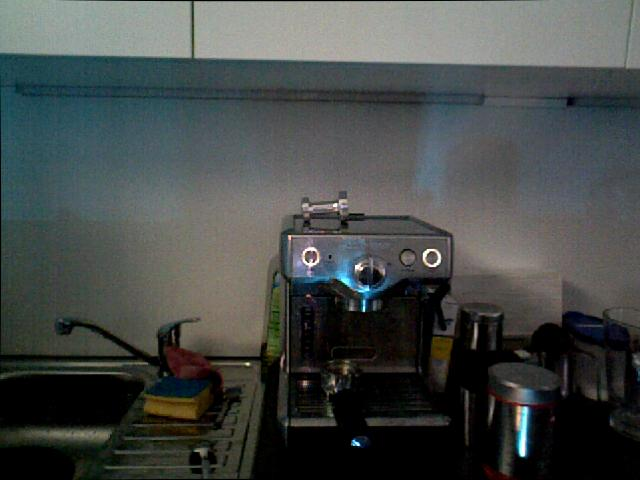bench: (257, 250, 287, 370)
couch: (0, 366, 149, 480)
handbag: (595, 299, 640, 444)
toilet: (208, 383, 244, 430), (184, 436, 218, 480)
